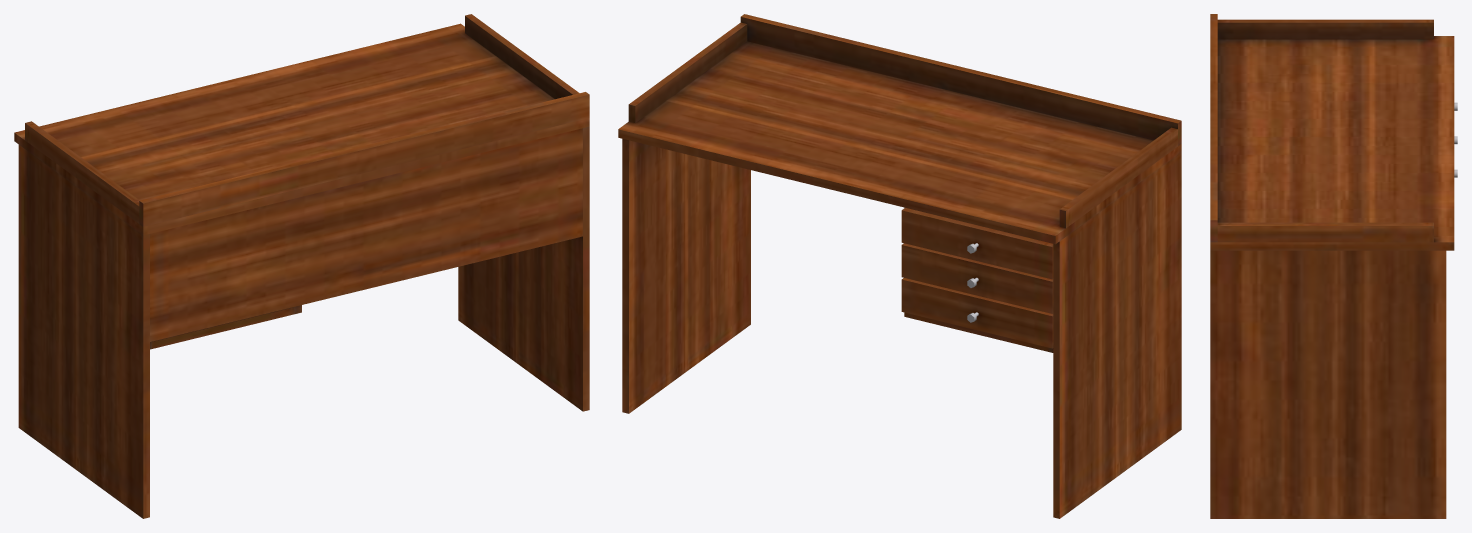
The model's file is desk_drawers_gallery_lod1_web.glb.
The picture shows the model from 3 angles, left to right: view 1: azimuth 30°, elevation 25°; view 2: azimuth 150°, elevation 25°; view 3: azimuth 270°, elevation 25°; orthographic projection. The views are drawn at different scales.
Parts seen in each view (by area): view 1: DeskDrawersGallery_Body; view 2: DeskDrawersGallery_Body, Drawer_1_3_Mesh, Drawer_1_1_Mesh, Drawer_1_2_Mesh; view 3: DeskDrawersGallery_Body.
Boxes of the visible parts, x1=… form: DeskDrawersGallery_Body: x1=14, y1=14, x2=589, y2=518; DeskDrawersGallery_Body: x1=618, y1=14, x2=1181, y2=518; Drawer_1_3_Mesh: x1=901, y1=207, x2=1053, y2=279; Drawer_1_1_Mesh: x1=901, y1=278, x2=1053, y2=348; Drawer_1_2_Mesh: x1=901, y1=243, x2=1053, y2=313; DeskDrawersGallery_Body: x1=1210, y1=14, x2=1454, y2=518.
Bounding box in the file's own units: 1.2 × 0.81 × 0.6081.
Materials: 2 (2 with a texture image).
